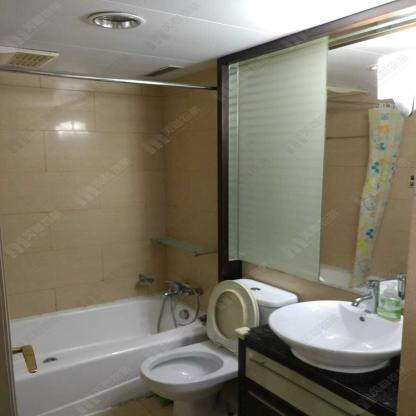Bathtub: (10, 290, 207, 416)
Toilet: (137, 278, 298, 416)
Toilet Sink: (268, 299, 403, 372)
